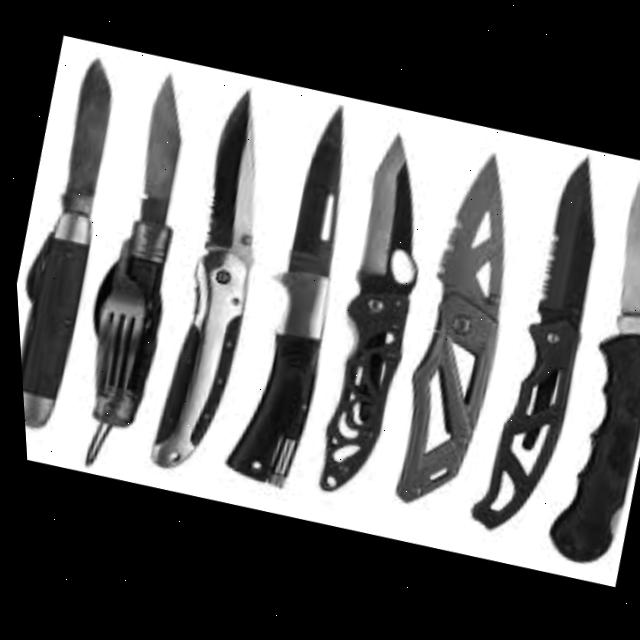Knife: (43, 63, 224, 476), (446, 144, 630, 543), (202, 93, 384, 491), (126, 78, 303, 477), (370, 143, 546, 516), (293, 129, 459, 502), (2, 50, 142, 432), (521, 160, 640, 571)
